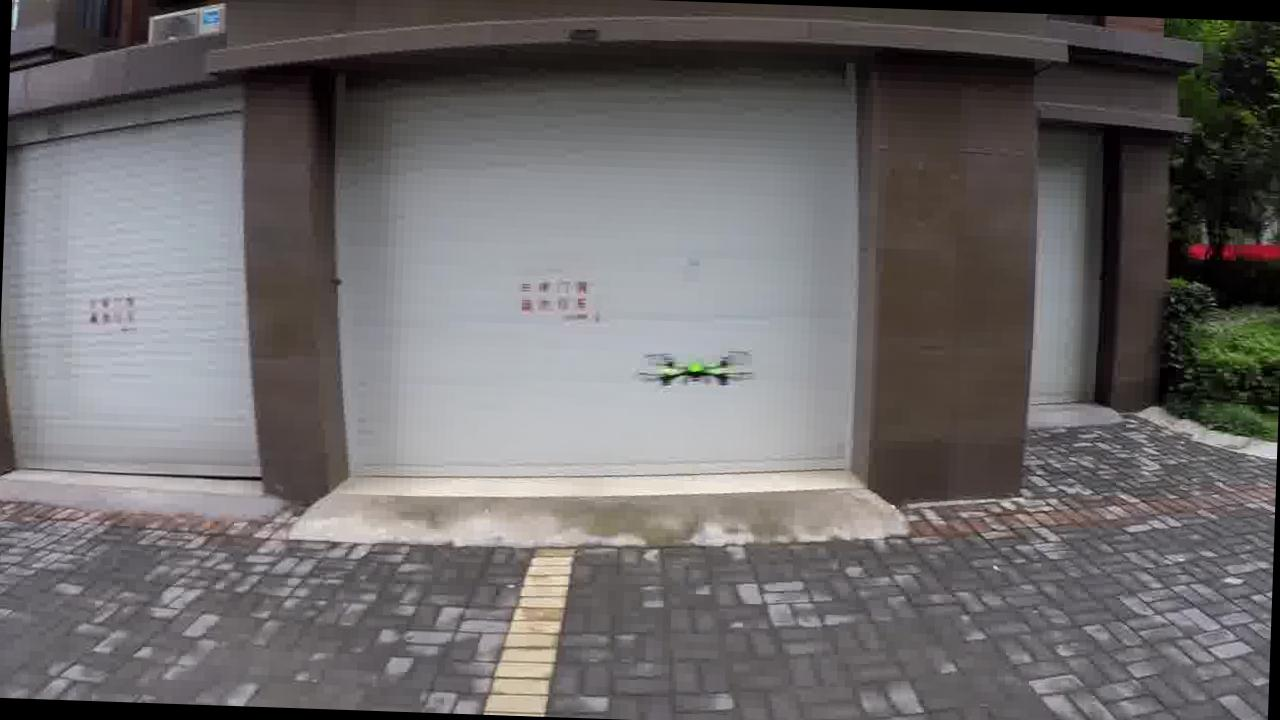drone: (627, 338, 756, 398)
